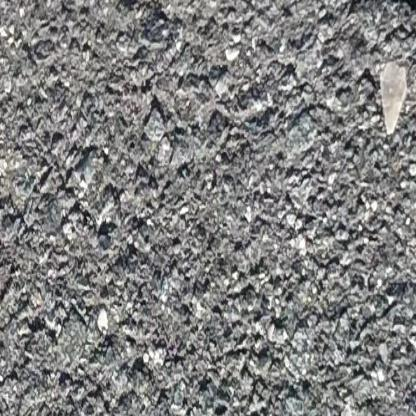Cracks: (347, 0, 416, 22)
